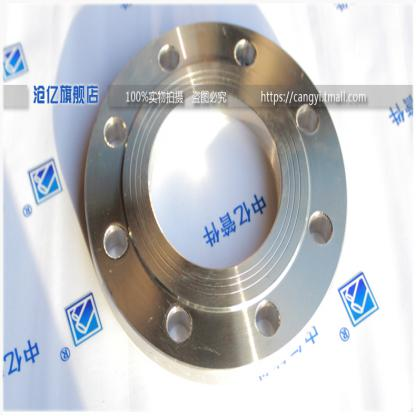FOD: (81, 15, 351, 372)
